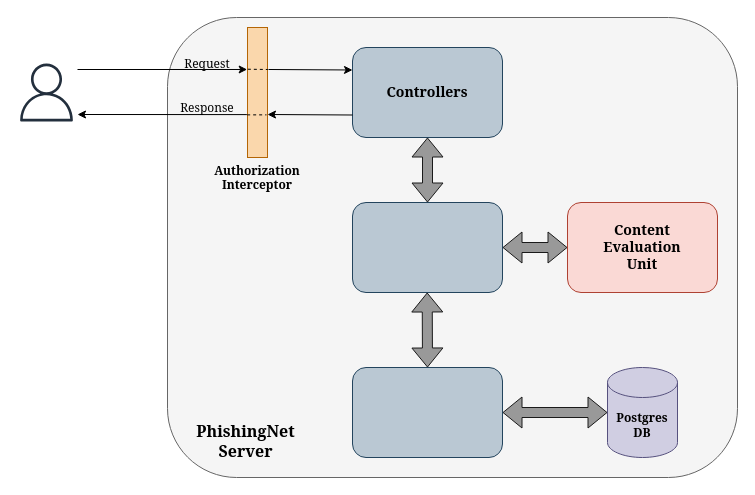
This 755x495 diagram has some shape labels left out. Here are the shapes that lost their labels. From the top down, the box of each, then its label:
(352, 202, 502, 292): Services
(352, 366, 502, 458): Data Storage
